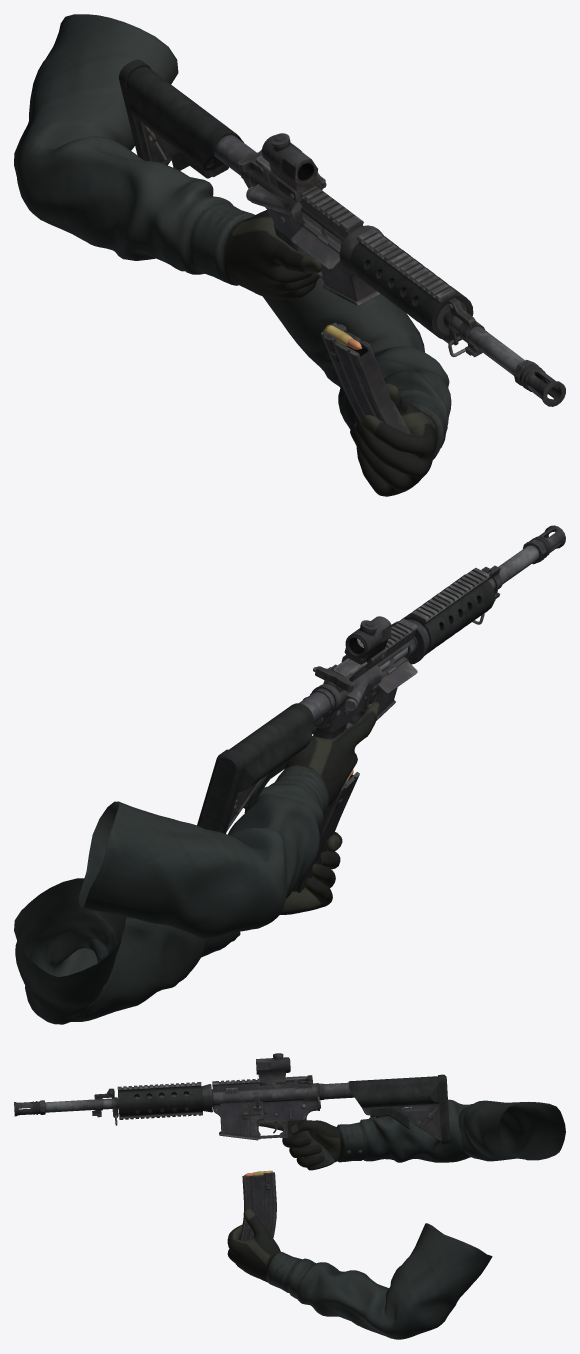
The model's file is gun_000069.obj.
3 views of the same model, one above another, from view 1: azimuth 30°, elevation 25°; view 2: azimuth 150°, elevation 25°; view 3: azimuth 270°, elevation 25° (orthographic). The views are drawn at different scales.
Parts seen in each view (by area): view 1: armmesh_arms_0, base_carbine_0, clip_carbine_0, scope_carbine_0, lid_carbine_0; view 2: armmesh_arms_0, base_carbine_0, scope_carbine_0, clip_carbine_0, lid_carbine_0; view 3: armmesh_arms_0, base_carbine_0, clip_carbine_0, scope_carbine_0.
Part boxes in pixels (left/top/right/bottom): armmesh_arms_0: left=14, top=14, right=451, bottom=496; base_carbine_0: left=119, top=59, right=565, bottom=406; clip_carbine_0: left=321, top=322, right=410, bottom=453; scope_carbine_0: left=261, top=133, right=326, bottom=202; lid_carbine_0: left=291, top=227, right=340, bottom=269; armmesh_arms_0: left=14, top=702, right=379, bottom=1024; base_carbine_0: left=197, top=525, right=565, bottom=833; scope_carbine_0: left=341, top=616, right=391, bottom=669; clip_carbine_0: left=292, top=772, right=359, bottom=892; lid_carbine_0: left=376, top=660, right=417, bottom=693; armmesh_arms_0: left=227, top=1099, right=565, bottom=1339; base_carbine_0: left=14, top=1074, right=450, bottom=1170; clip_carbine_0: left=239, top=1172, right=276, bottom=1240; scope_carbine_0: left=256, top=1053, right=290, bottom=1085.
Size of the model in its own units: 49.64 by 58.56 by 129.
